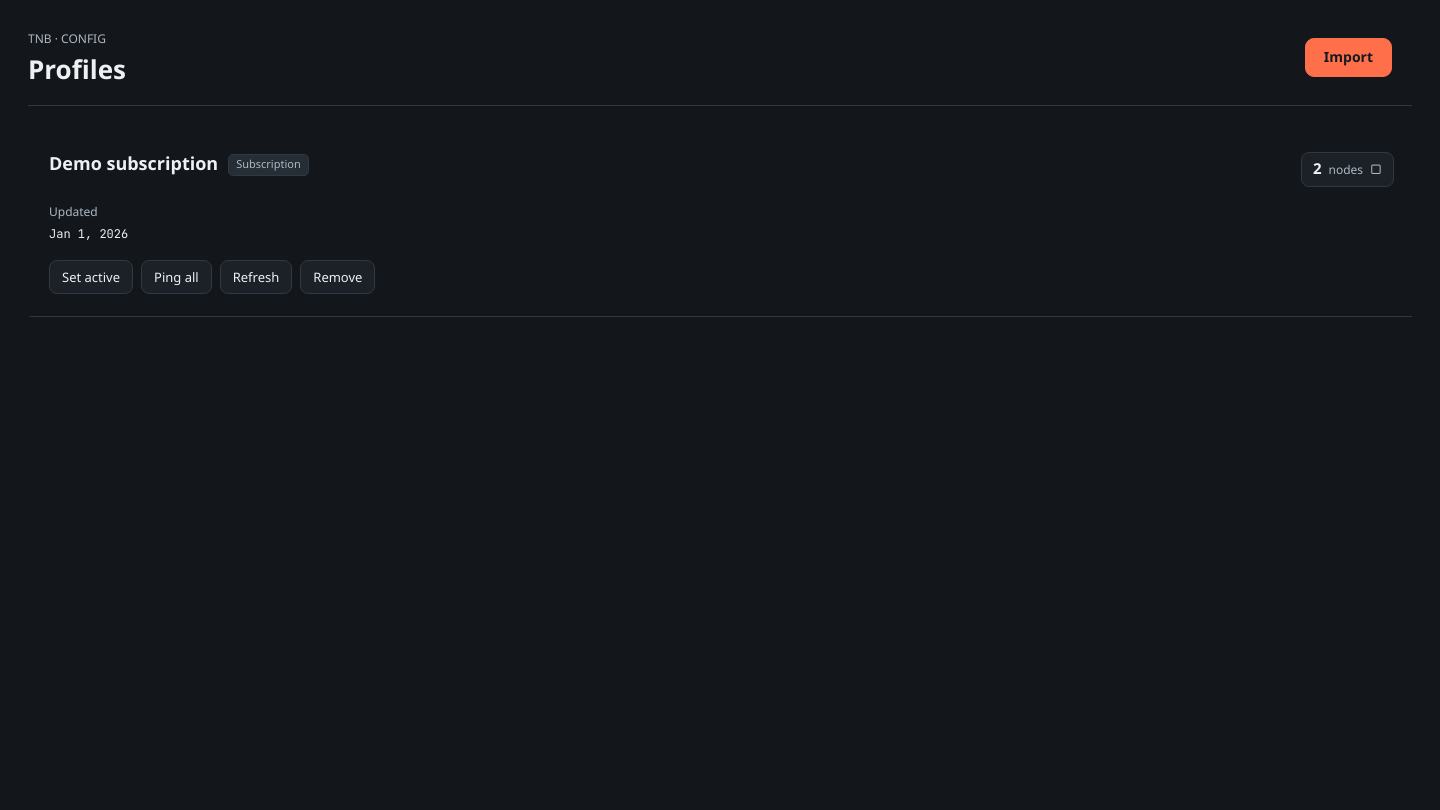
Scenario: ProfilesScreen import dialog › subscription tab › requires a URL once a name is given
Click the button "Import" at (1348, 58), box [1305,38,1392,77]
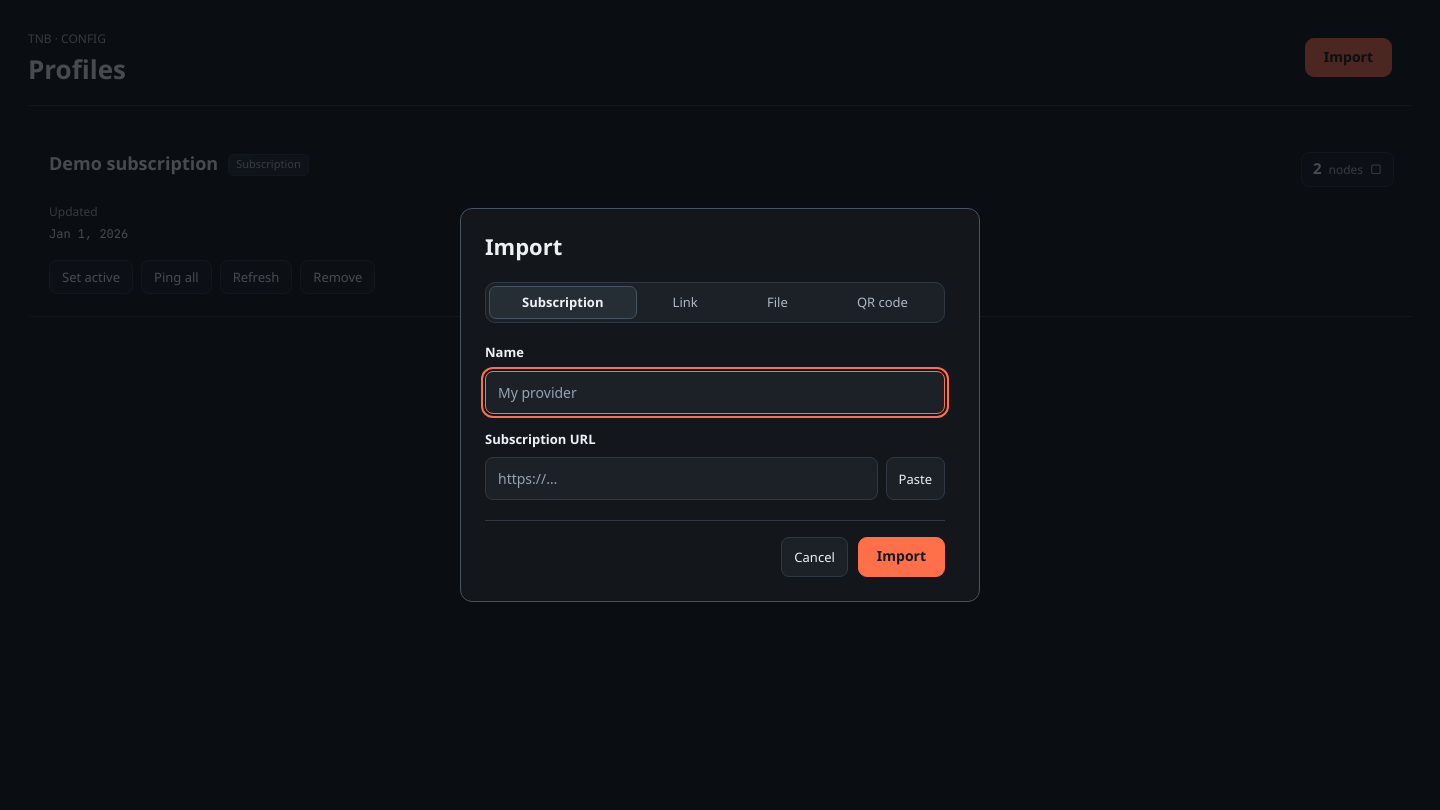
Type "Provider" into the field with placeholder "My provider" at (715, 392), box [485,371,945,414]
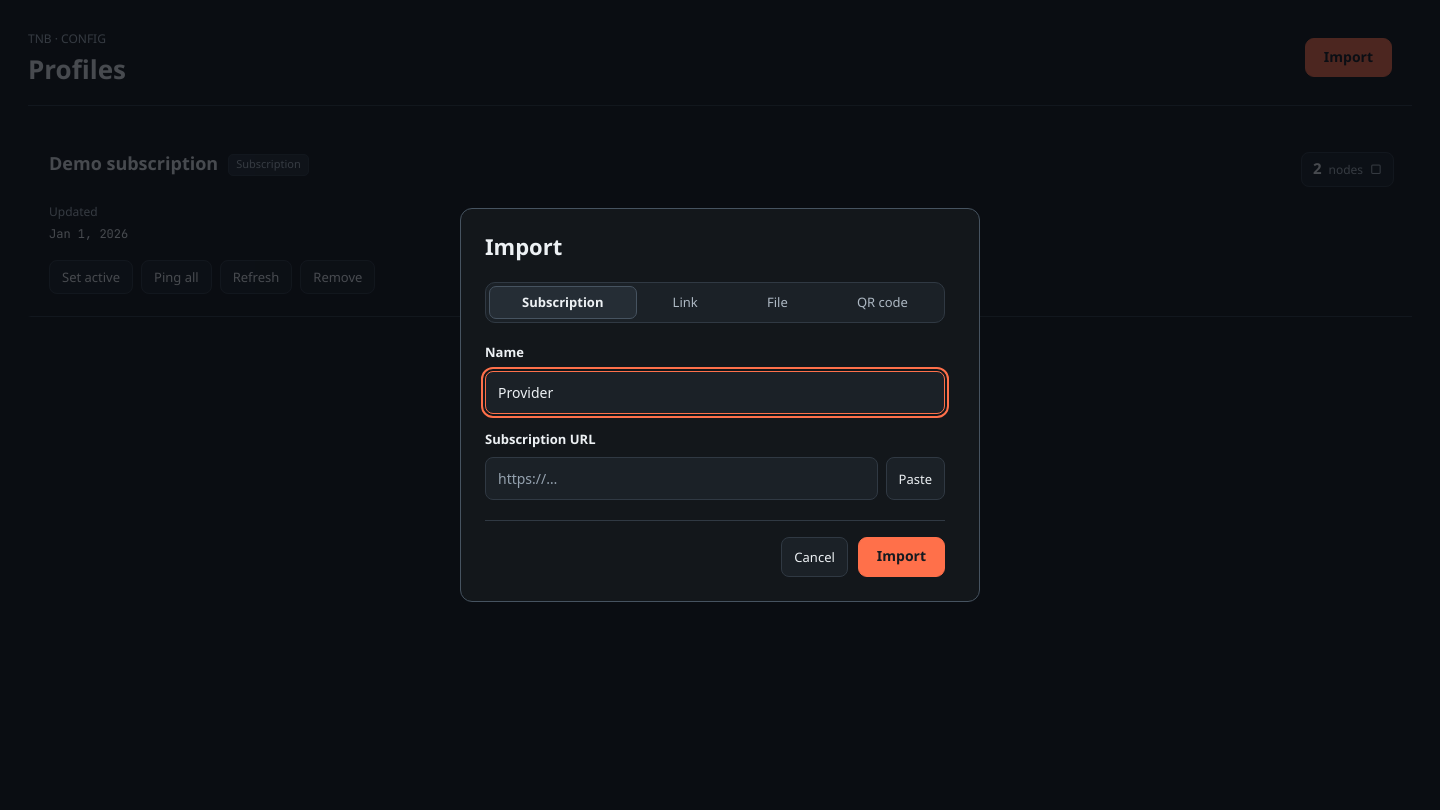
Click the button "Import" at (901, 557), box [858,537,945,577]
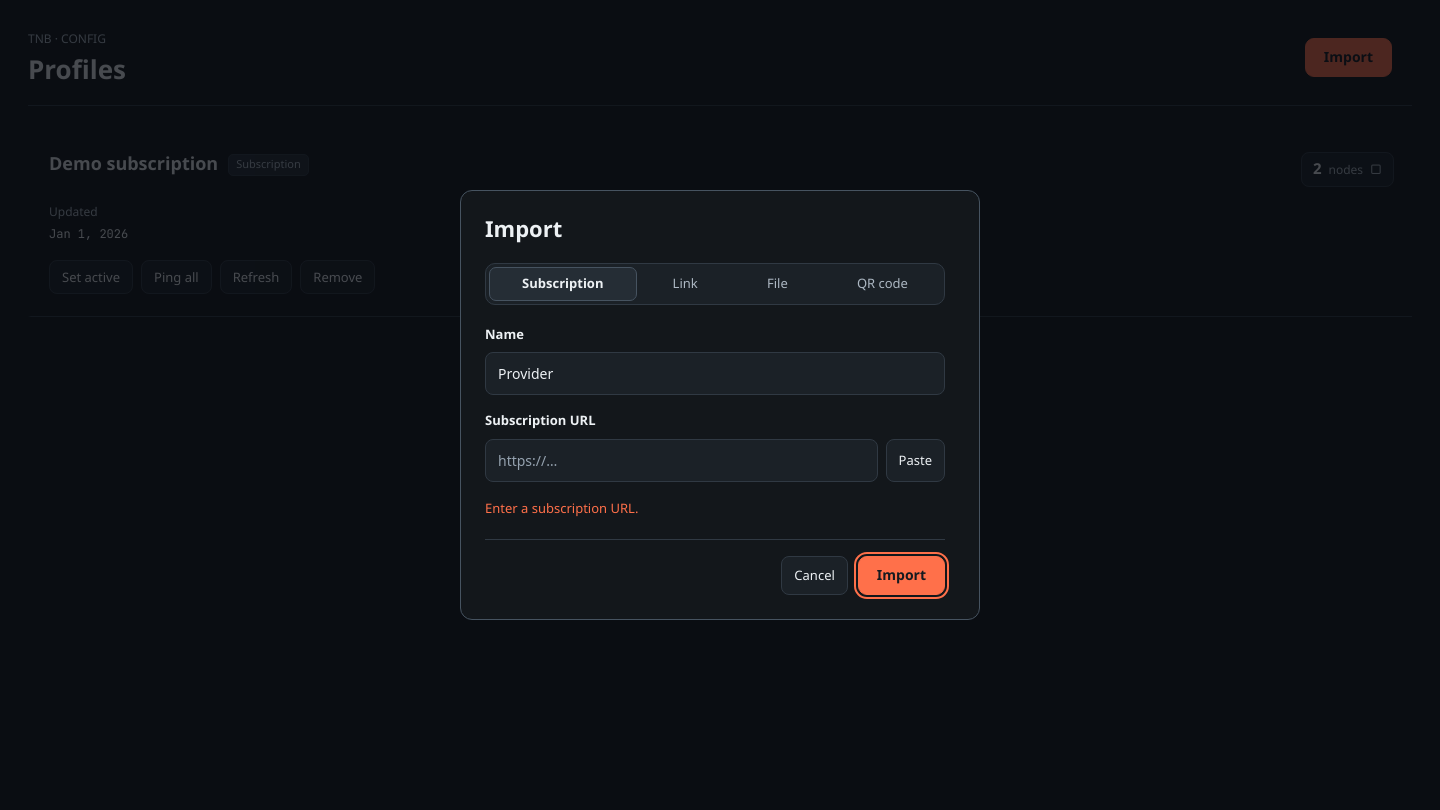
Result: the text "Enter a subscription URL." is shown at [485,499,638,517]
